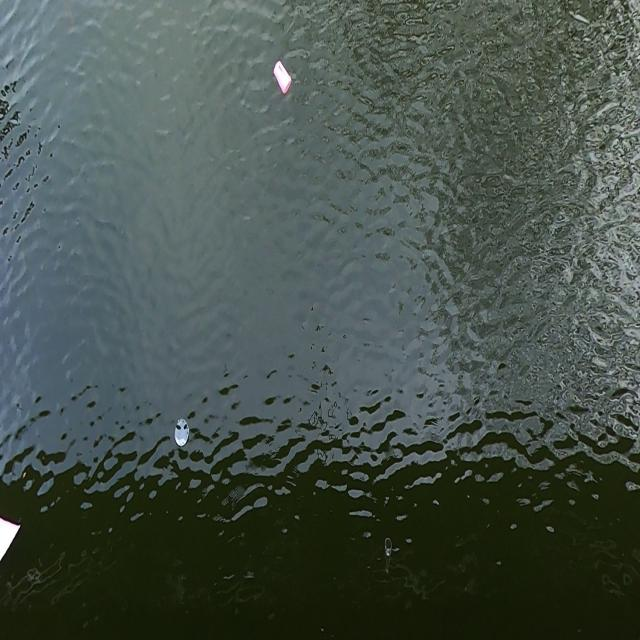Autre plastique: (271, 58, 295, 98), (172, 415, 192, 450)
